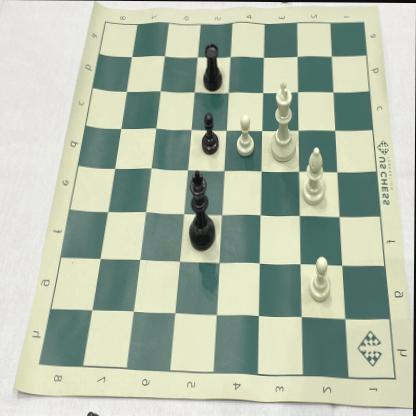black-king: (186, 168, 218, 255)
black-pawn: (201, 112, 220, 159)
black-rook: (201, 41, 225, 94)
white-bishop: (300, 145, 328, 207)
white-king: (269, 80, 296, 165)
white-pawn: (310, 254, 332, 304), (235, 110, 256, 158)
